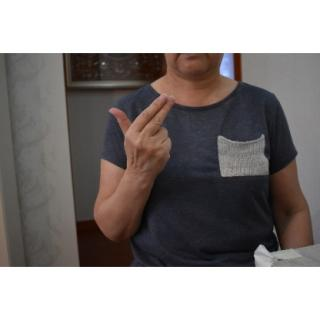GHAYN: (107, 92, 177, 190)
